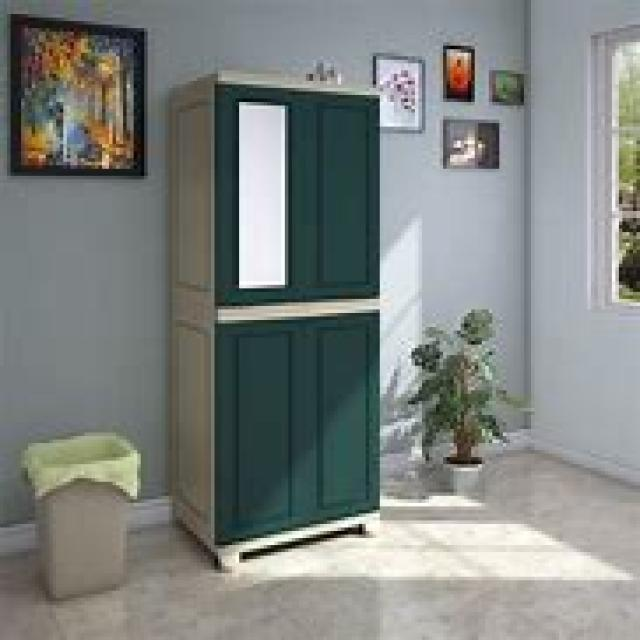dolap: (165, 67, 380, 570)
